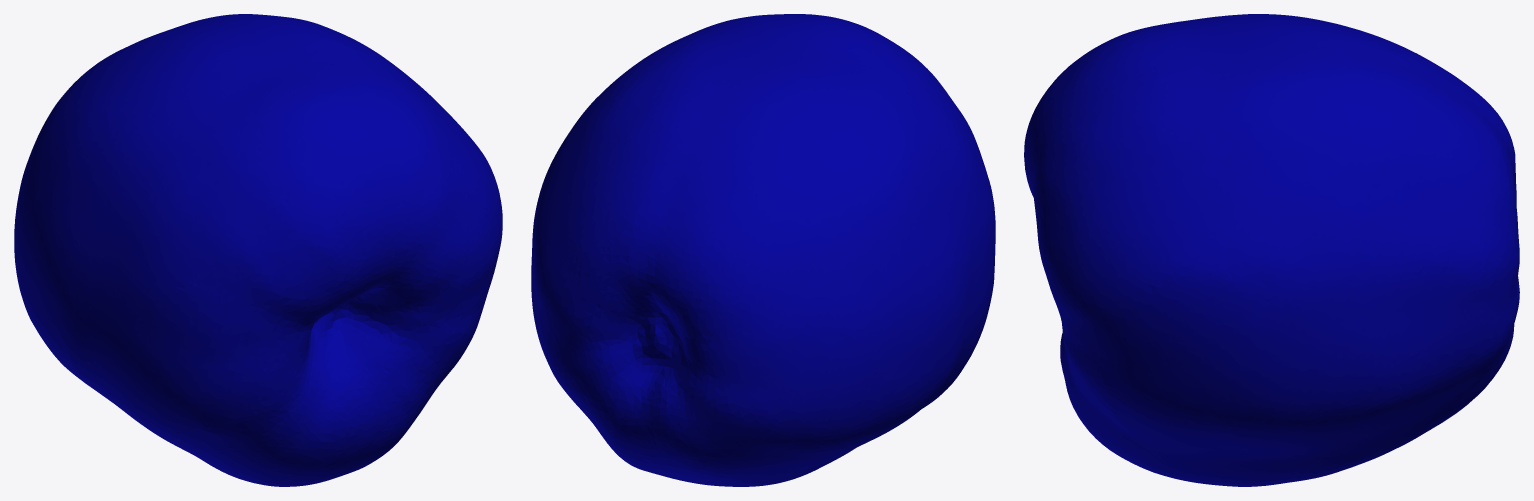
The model's file is apple_error.glb.
3 views of the same model, side by side, from view 1: azimuth 30°, elevation 25°; view 2: azimuth 150°, elevation 25°; view 3: azimuth 270°, elevation 25° (orthographic). The views are drawn at different scales.
Visible parts, largest first — view 1: apple.obj; view 2: apple.obj; view 3: apple.obj.
Part boxes in pixels (<box>): apple.obj: <box>14,14,502,486</box>; apple.obj: <box>531,14,995,486</box>; apple.obj: <box>1024,14,1519,486</box>.
Bounding box in the file's own units: 1.73 × 1.71 × 1.81.
